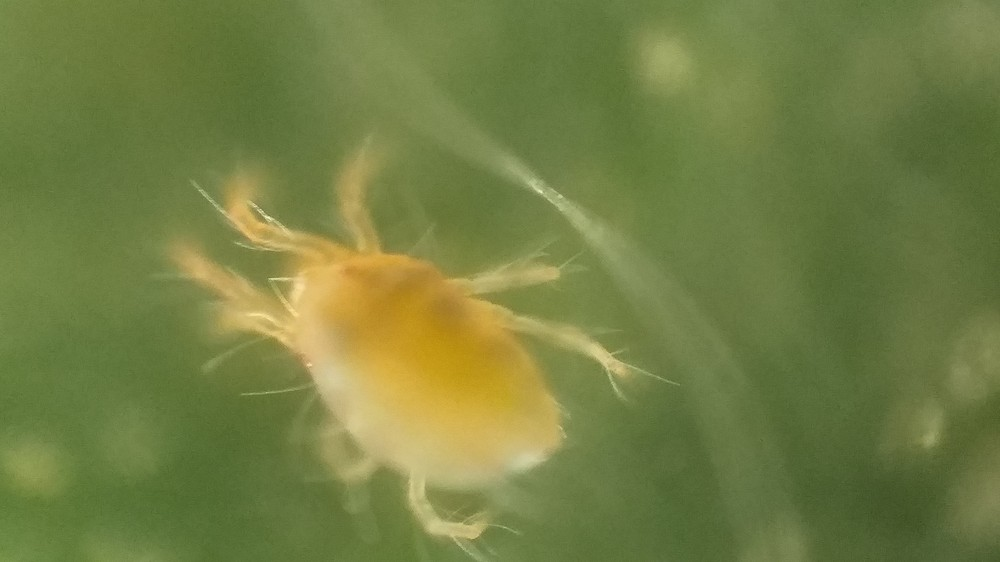Aracnido Rojo: (143, 133, 724, 549)
